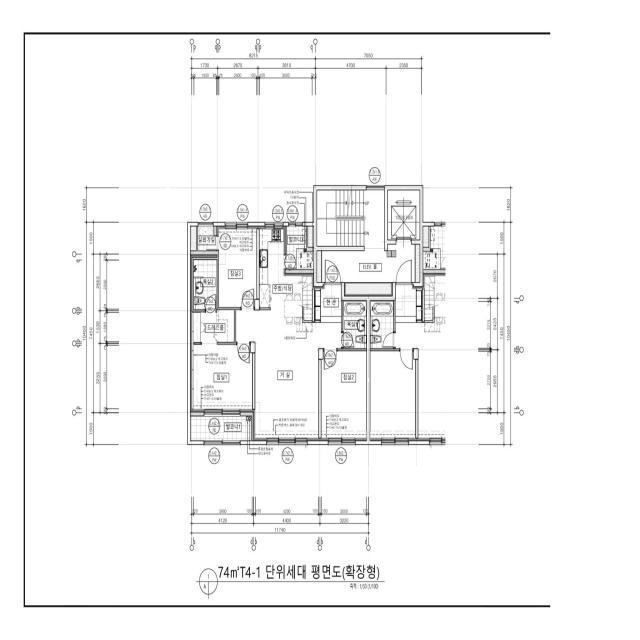space_balconi: (190, 416, 252, 441), (287, 226, 314, 269)
space_bedroom: (190, 344, 252, 412), (321, 351, 367, 441), (217, 226, 257, 307)
space_dressroom: (190, 310, 234, 342)
space_elevator: (388, 190, 420, 240)
space_elevator_hall: (322, 190, 415, 282)
space_front: (315, 284, 342, 322)
space_kitchen: (259, 226, 302, 322)
space_living_room: (236, 310, 341, 441)
space_other: (345, 283, 392, 296), (190, 226, 196, 251), (416, 245, 420, 282), (308, 226, 314, 247), (317, 251, 321, 282)
space_outdoor_room: (198, 226, 216, 251)
space_staircase: (317, 190, 364, 246), (303, 274, 314, 320)
space_toilet: (193, 260, 217, 310), (343, 300, 367, 349)
